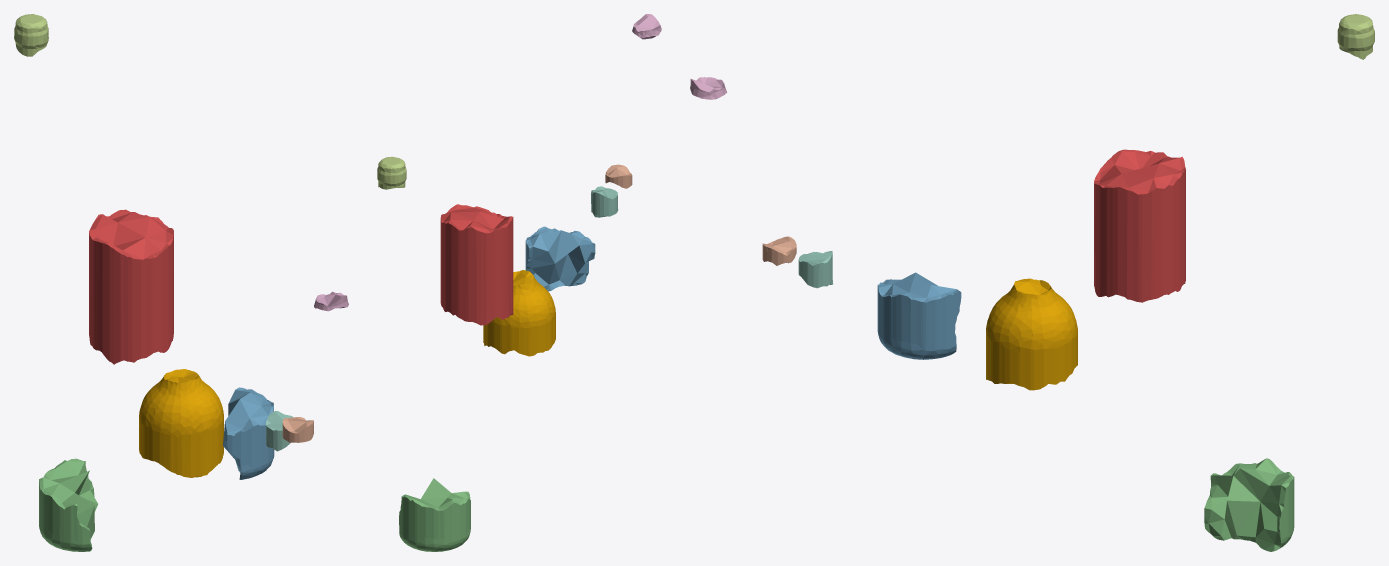
The model's file is fractured_55_8pcs_transformed.glb.
3 renders of one model, left to right at view 1: azimuth 30°, elevation 25°; view 2: azimuth 150°, elevation 25°; view 3: azimuth 270°, elevation 25°, orthographic. The views are drawn at different scales.
Visible parts, largest first — view 1: piece_1.obj, piece_0.obj, piece_3.obj, piece_2.obj, piece_5.obj, piece_7.obj, piece_4.obj, piece_6.obj; view 2: piece_1.obj, piece_3.obj, piece_0.obj, piece_2.obj, piece_5.obj, piece_4.obj, piece_6.obj, piece_7.obj; view 3: piece_1.obj, piece_0.obj, piece_3.obj, piece_2.obj, piece_5.obj, piece_4.obj.
Part boxes in pixels (x1,y1,x2,y2): piece_1.obj: (89, 209, 173, 364); piece_0.obj: (139, 369, 223, 477); piece_3.obj: (39, 458, 97, 551); piece_2.obj: (223, 387, 274, 479); piece_5.obj: (14, 14, 48, 56); piece_7.obj: (282, 417, 313, 442); piece_4.obj: (266, 411, 293, 451); piece_6.obj: (314, 291, 348, 311); piece_1.obj: (440, 204, 513, 325); piece_3.obj: (399, 478, 470, 551); piece_0.obj: (483, 270, 555, 356); piece_2.obj: (525, 226, 595, 291); piece_5.obj: (377, 156, 406, 189); piece_4.obj: (591, 186, 618, 217); piece_6.obj: (632, 14, 661, 39); piece_7.obj: (605, 164, 632, 188); piece_1.obj: (1094, 149, 1185, 302); piece_0.obj: (986, 278, 1077, 390); piece_3.obj: (1204, 458, 1294, 551); piece_2.obj: (877, 272, 961, 359); piece_5.obj: (1337, 14, 1374, 59); piece_4.obj: (798, 251, 833, 288).
Bounding box in the file's own units: 0.2559 × 1.6 × 1.9.
